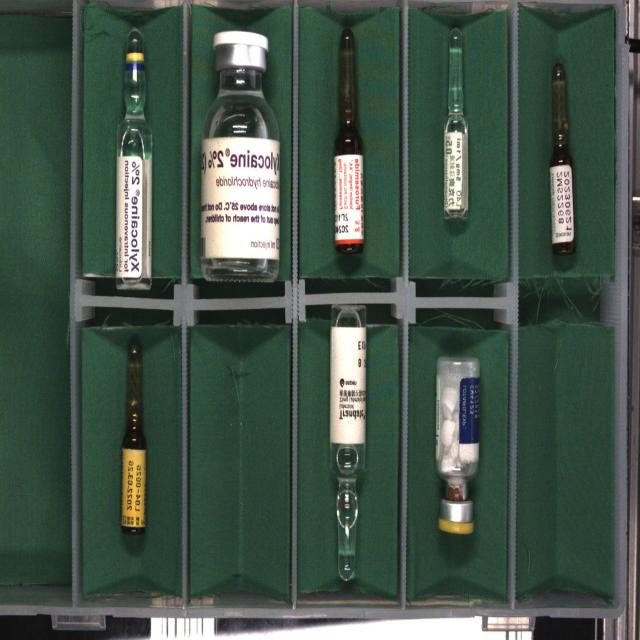Vials: (201, 31, 280, 281), (435, 357, 479, 533)
